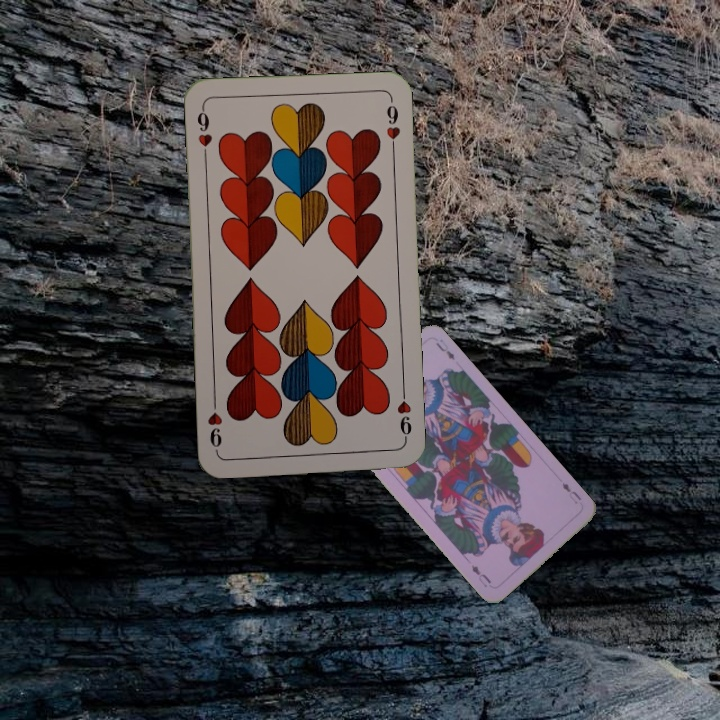EU: (558, 478, 584, 503)
H9: (393, 386, 415, 445), (193, 103, 214, 162)
